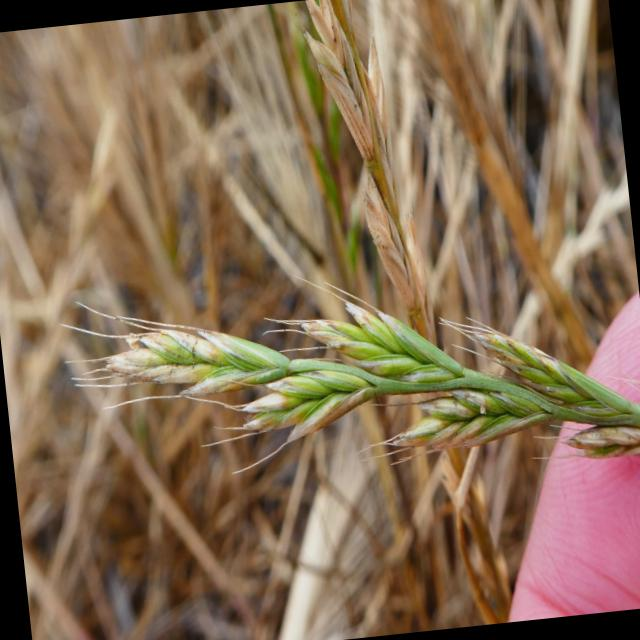Lolium: (55, 238, 640, 520), (312, 0, 546, 635)
